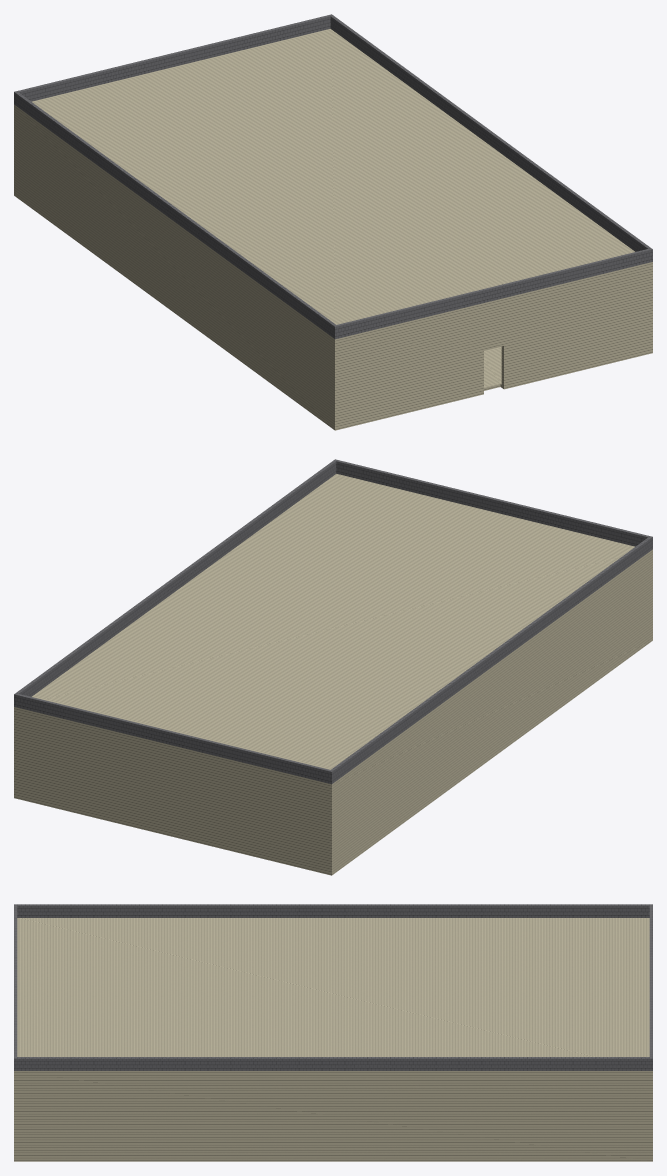
File: feed_store.glb
The picture shows the model from 3 angles, top to bottom: view 1: azimuth 30°, elevation 25°; view 2: azimuth 150°, elevation 25°; view 3: azimuth 270°, elevation 25°; orthographic projection.
Visible parts, largest first — view 1: feed_store-col; view 2: feed_store-col; view 3: feed_store-col.
Boxes of the visible parts, x1,y1,x2,y2 form: feed_store-col: [14, 14, 652, 430]; feed_store-col: [14, 459, 652, 875]; feed_store-col: [14, 904, 652, 1161].
Size of the model in its own units: 16 by 4.99 by 28.
2 materials, 2 textured.
